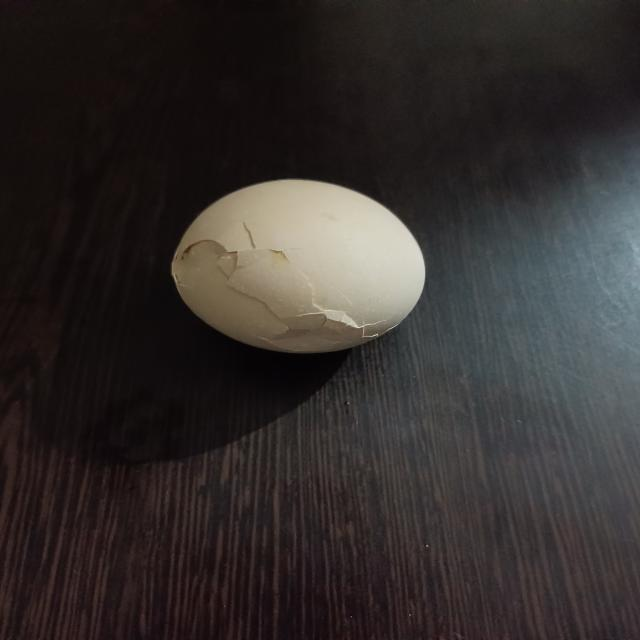biodegradable: (170, 180, 428, 354)
